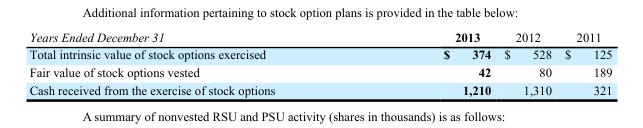table: (28, 29, 611, 96)
table column: (28, 29, 358, 96), (358, 29, 496, 96), (496, 29, 557, 96), (557, 29, 611, 96)
table column header: (28, 29, 611, 45)
table row: (28, 62, 611, 80), (28, 45, 611, 62), (28, 29, 611, 45), (28, 80, 611, 96)
